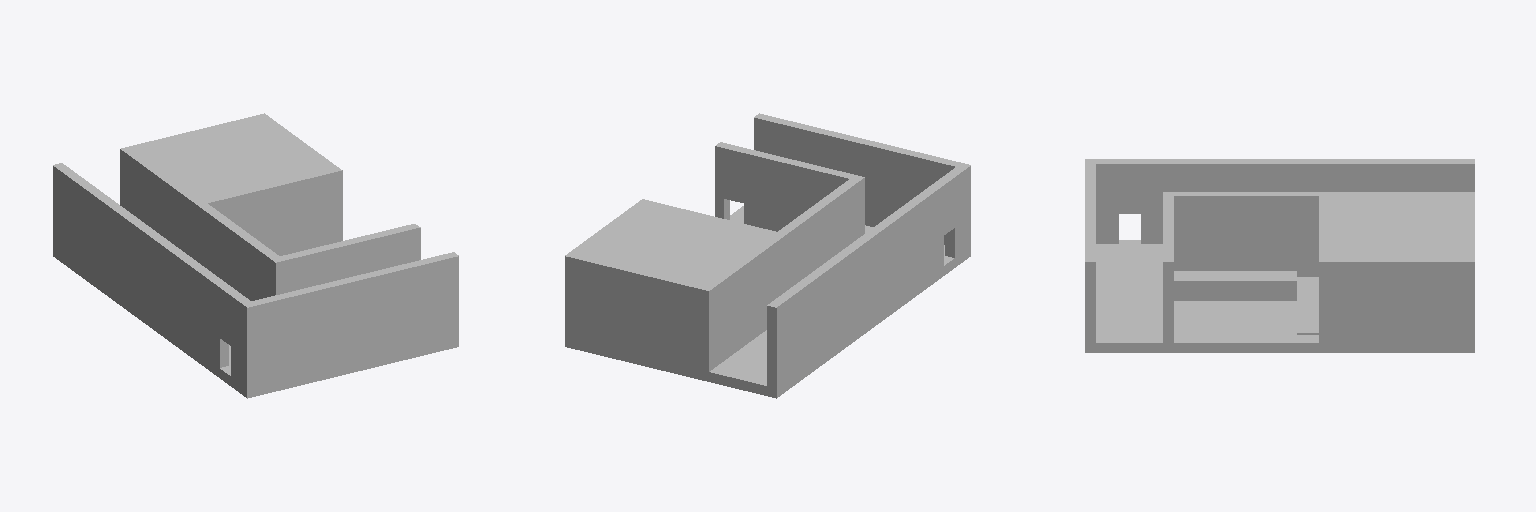
Rendered from unionB.obj.
3 views of the same model, side by side, from view 1: azimuth 30°, elevation 25°; view 2: azimuth 150°, elevation 25°; view 3: azimuth 270°, elevation 25° (orthographic).
Visible parts, largest first — view 1: object 1; view 2: object 1; view 3: object 1.
Part boxes in pixels (x1,y1,x2,y2): object 1: (53,113,458,398); object 1: (565,113,970,398); object 1: (1085,159,1474,352).
Bounding box in the file's own units: 13.2 × 5.4 × 21.